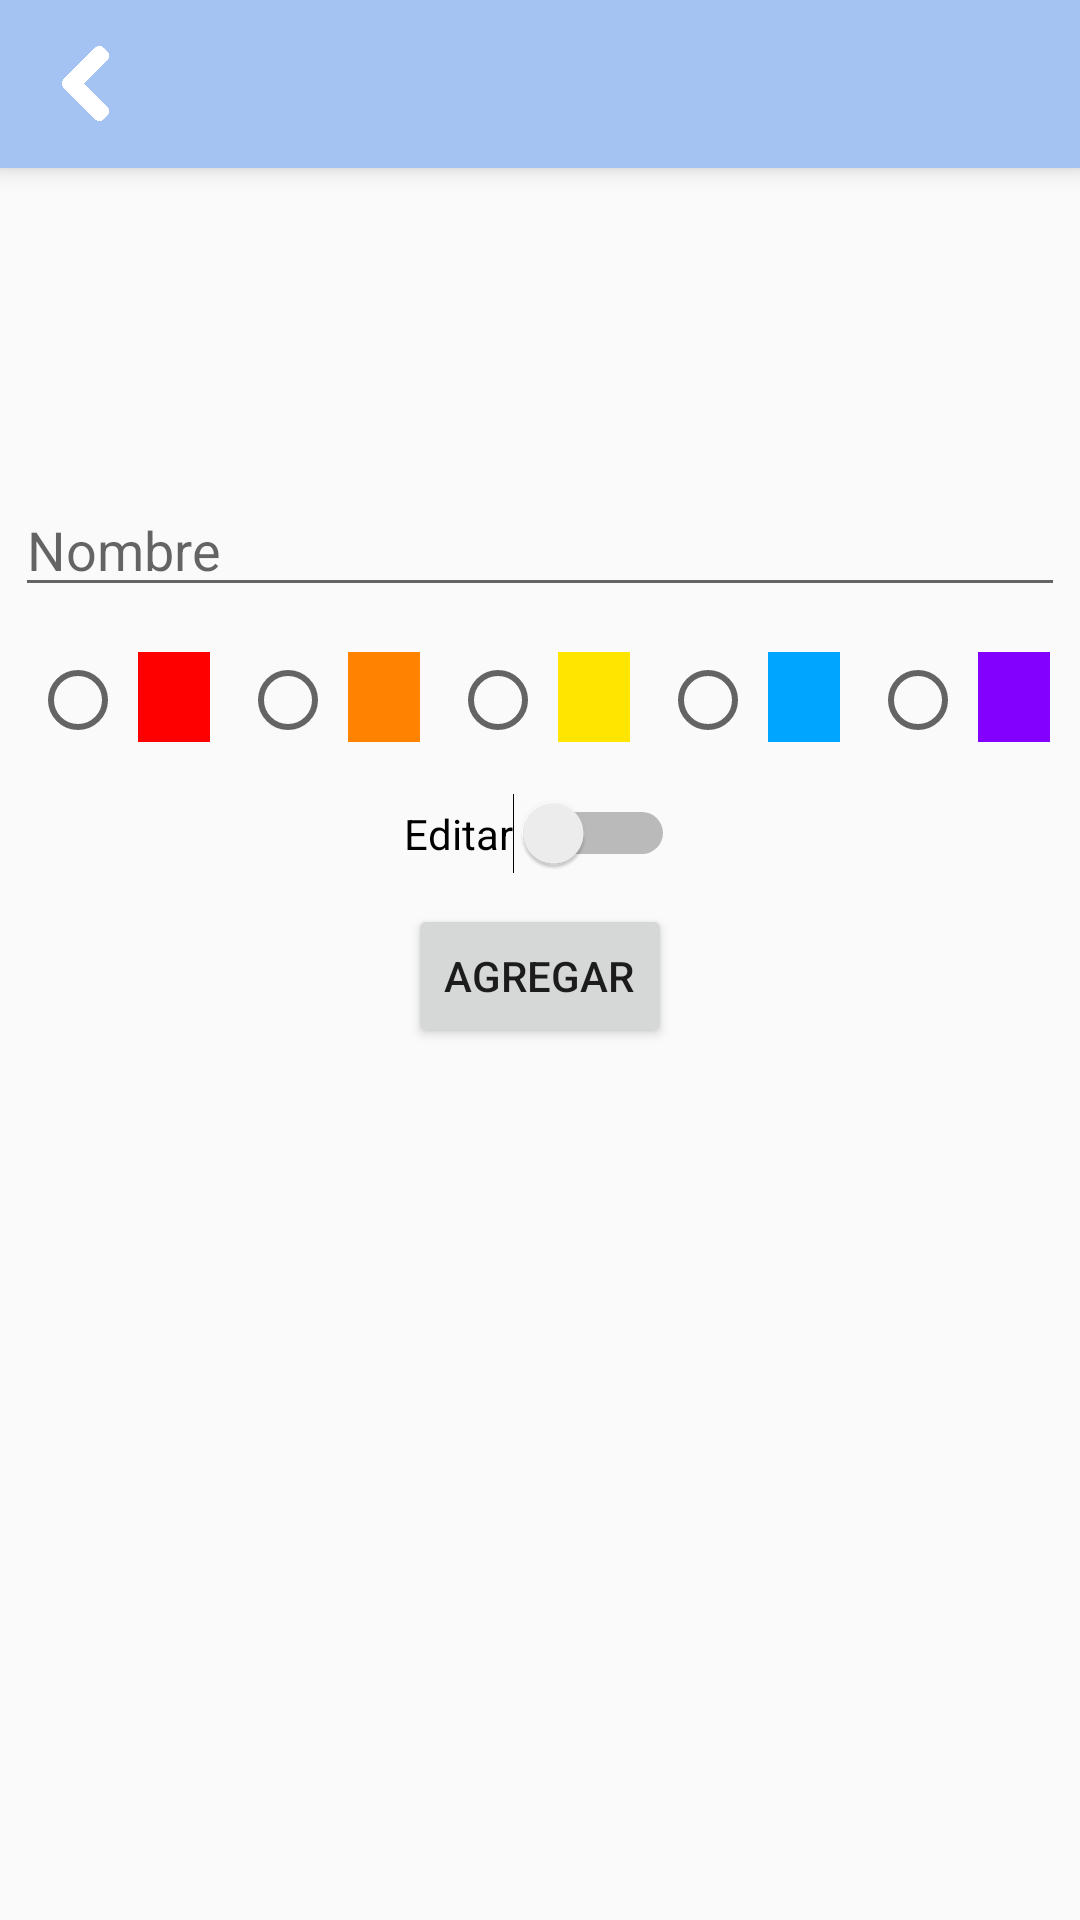

Where icons sit on this 1080 × 1920 app screen, as (x1, y1, x2, y2):
back: (62, 46, 109, 121)
